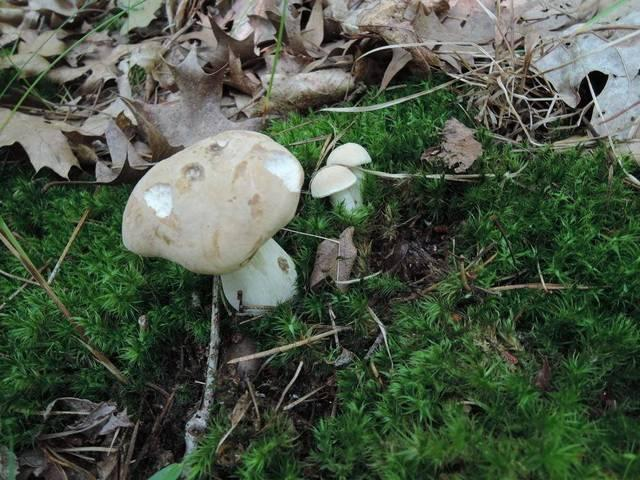Edible Mushroom: (120, 128, 300, 307), (309, 141, 376, 215)
